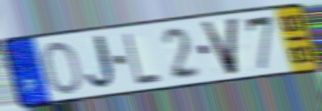2: (162, 25, 203, 83)
7: (243, 15, 277, 71)
J: (84, 32, 122, 93)
L: (121, 31, 164, 86)
O: (42, 39, 86, 96)
V: (198, 15, 242, 77)
